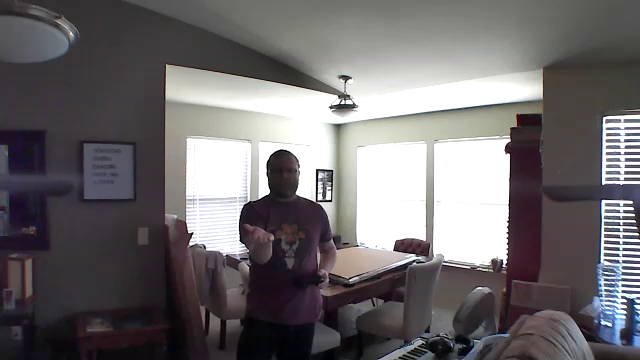land: (240, 221, 277, 247)
